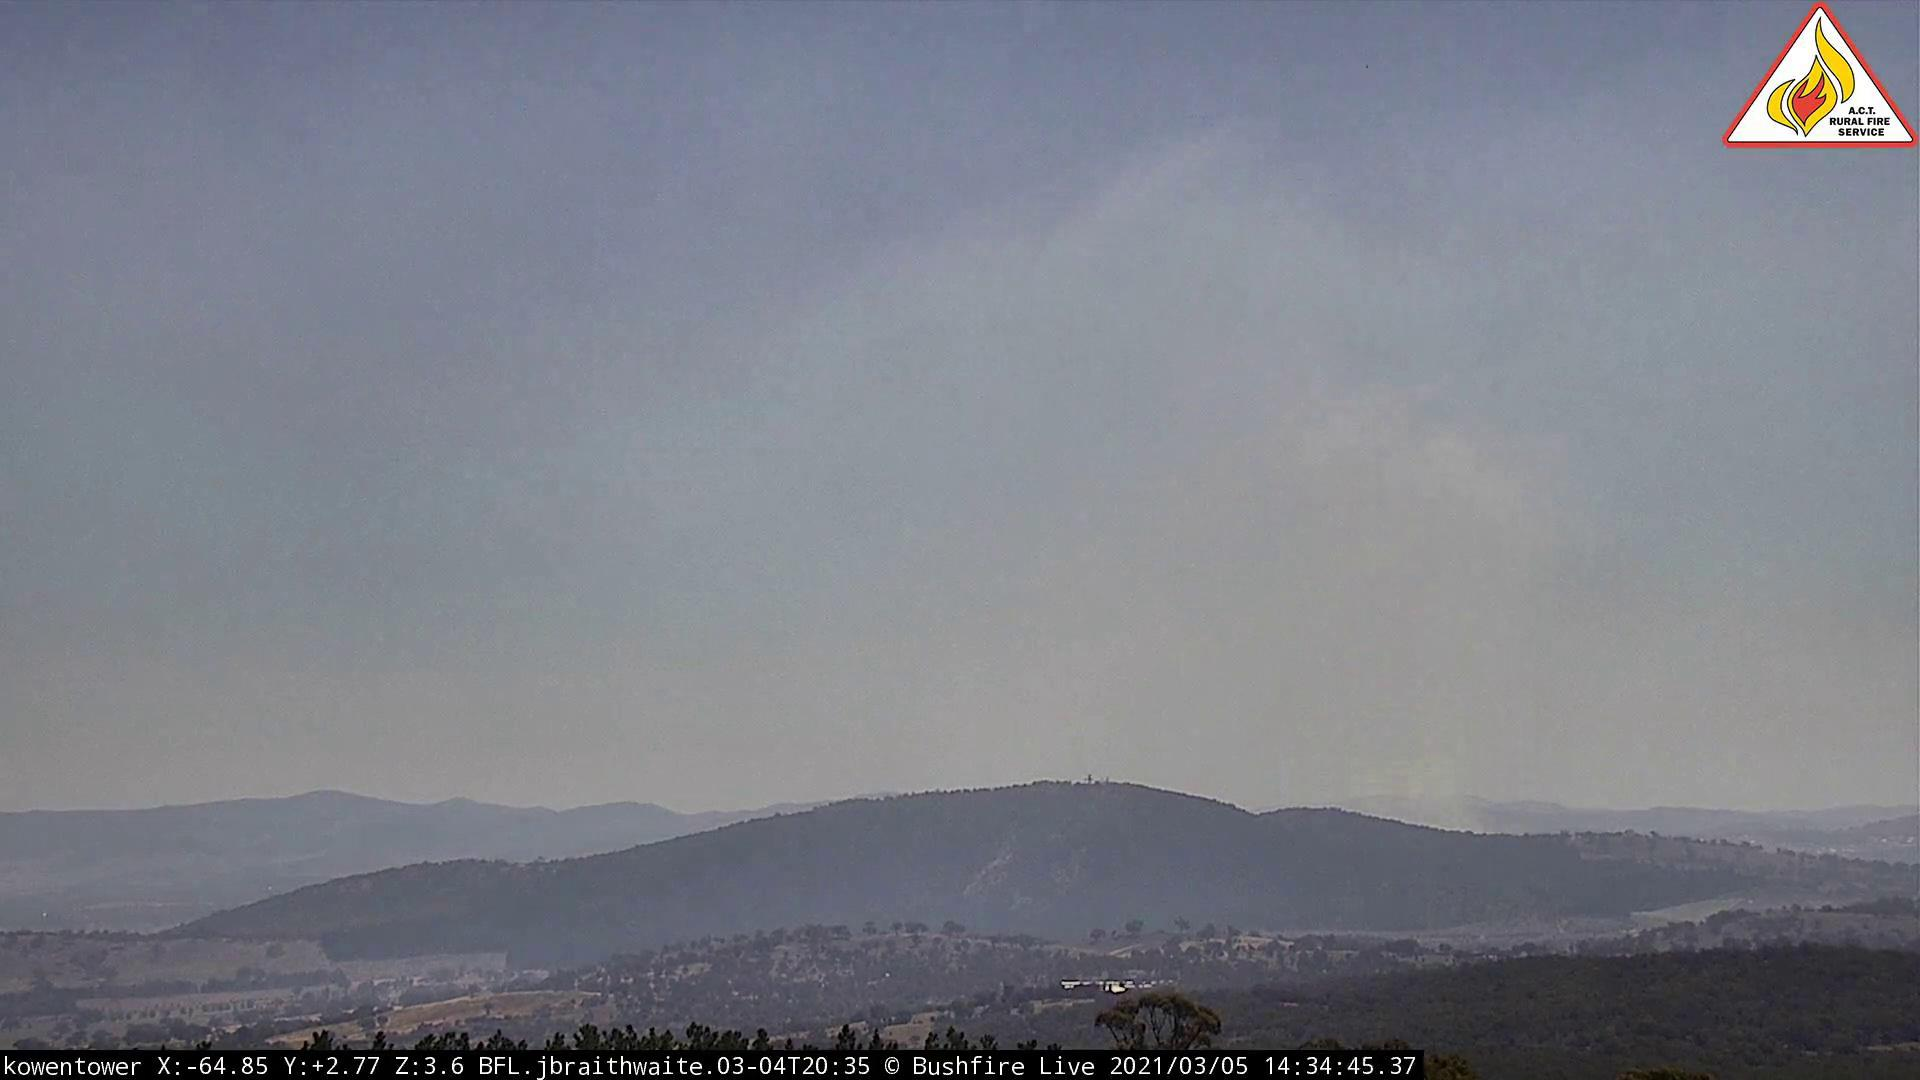instance_salient_object: (1182, 381, 1601, 847)
